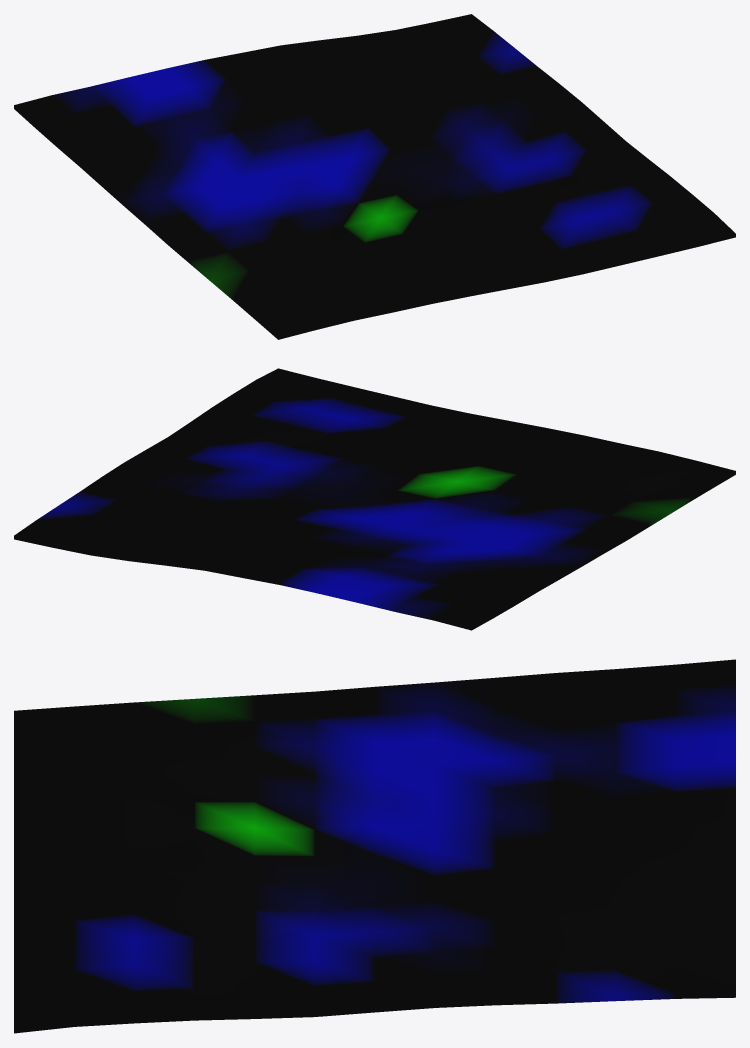
Rendered from coast_18_2.glb.
The picture shows the model from 3 angles, top to bottom: view 1: azimuth 30°, elevation 25°; view 2: azimuth 150°, elevation 25°; view 3: azimuth 270°, elevation 25°; orthographic projection. The views are drawn at different scales.
Parts seen in each view (by area): view 1: terrain; view 2: terrain; view 3: terrain.
Part boxes in pixels (bbox=[...]): terrain: bbox=[14, 14, 735, 339]; terrain: bbox=[14, 368, 735, 630]; terrain: bbox=[14, 659, 735, 1033].
Bounding box in the file's own units: 192 × 20.65 × 192.
